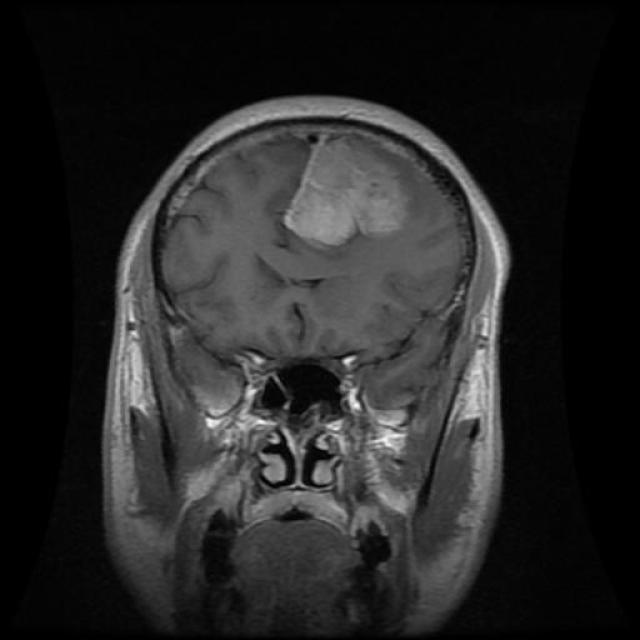meningioma: (284, 142, 411, 244)
